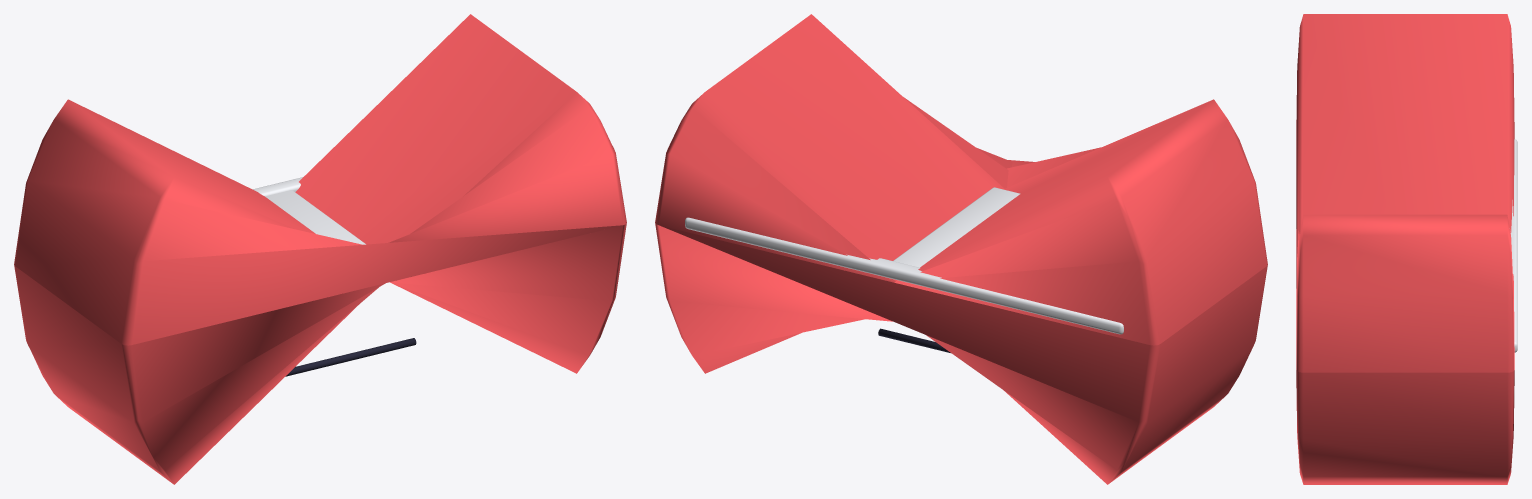
The model's file is planeador.glb.
3 views of the same model, side by side, from view 1: azimuth 30°, elevation 25°; view 2: azimuth 150°, elevation 25°; view 3: azimuth 270°, elevation 25° (orthographic). The views are drawn at different scales.
Parts seen in each view (by area): view 1: Ala.001, Raya, Barra; view 2: Ala.001, Borde, Raya; view 3: Ala.001, Borde.
Boxes of the visible parts, x1=… form: Ala.001: x1=14, y1=14, x2=626, y2=484; Raya: x1=265, y1=190, x2=365, y2=244; Barra: x1=285, y1=338, x2=416, y2=376; Ala.001: x1=655, y1=14, x2=1267, y2=484; Borde: x1=685, y1=217, x2=1123, y2=334; Raya: x1=893, y1=187, x2=1020, y2=267; Ala.001: x1=1296, y1=14, x2=1514, y2=484; Borde: x1=1510, y1=139, x2=1517, y2=352.
Bounding box in the file's own units: 4.6 × 2.68 × 1.83.
